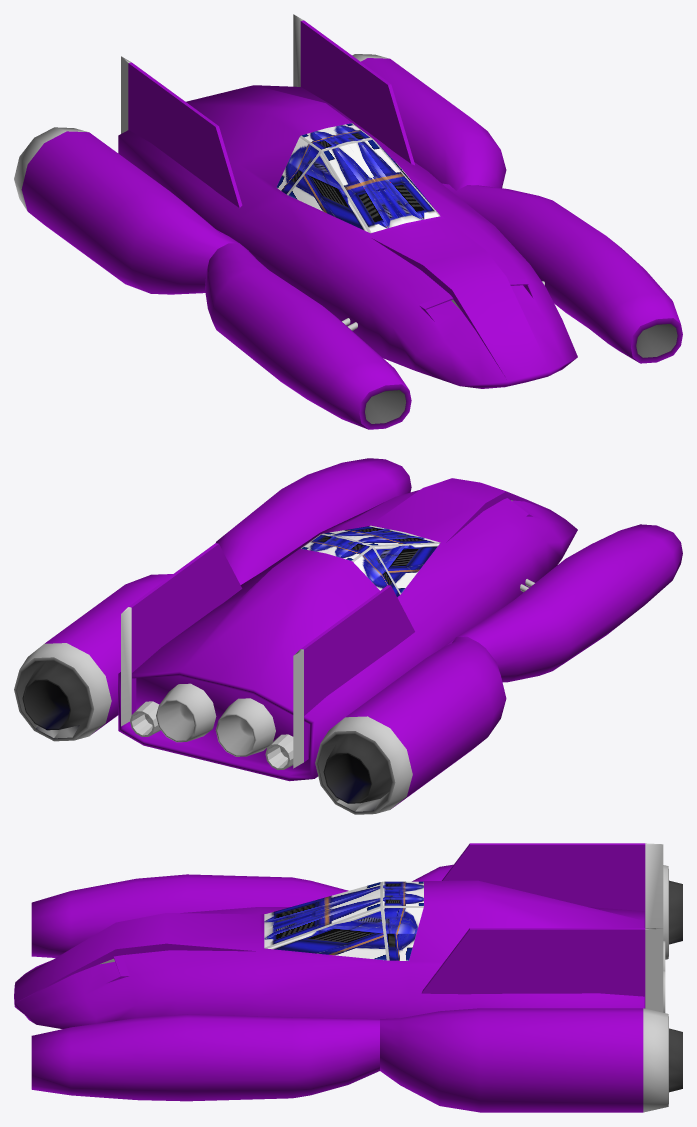
The model's file is Hot_Violet.fbx.
3 renders of one model, top to bottom at view 1: azimuth 30°, elevation 25°; view 2: azimuth 150°, elevation 25°; view 3: azimuth 270°, elevation 25°, orthographic.
Parts seen in each view (by area): view 1: body.007, body.002; view 2: body.007, body.002; view 3: body.007, body.002.
Boxes of the visible parts, <box> form: body.007: <box>118,14,577,388</box>; body.002: <box>14,54,682,429</box>; body.007: <box>118,478,577,781</box>; body.002: <box>14,458,682,814</box>; body.007: <box>14,843,665,1028</box>; body.002: <box>31,864,682,1112</box>.
Bounding box in the file's own units: 147 × 52.49 × 216.
